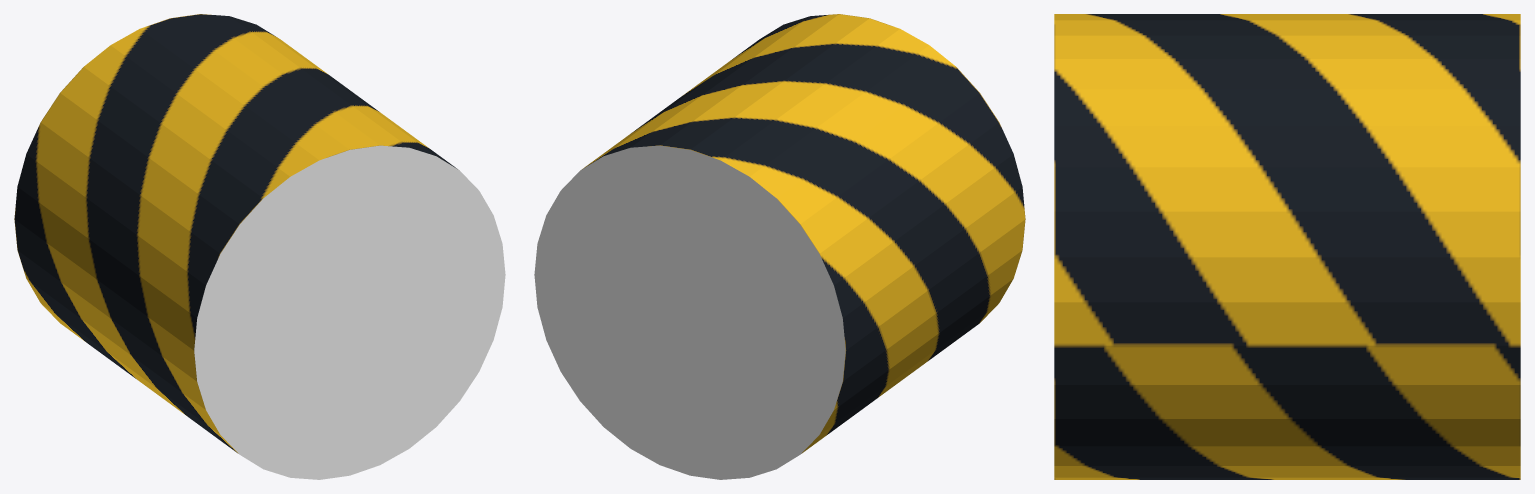
File: hazard_cylinder_val_amber_plaster_c0.obj
3 views of the same model, side by side, from view 1: azimuth 30°, elevation 25°; view 2: azimuth 150°, elevation 25°; view 3: azimuth 270°, elevation 25° (orthographic). The views are drawn at different scales.
Size of the model in its own units: 1 by 1 by 1.
